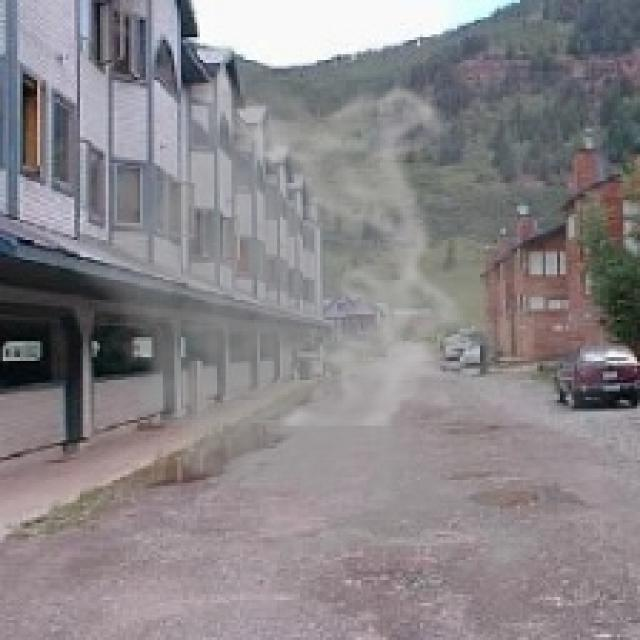smoke: (57, 72, 609, 597)
